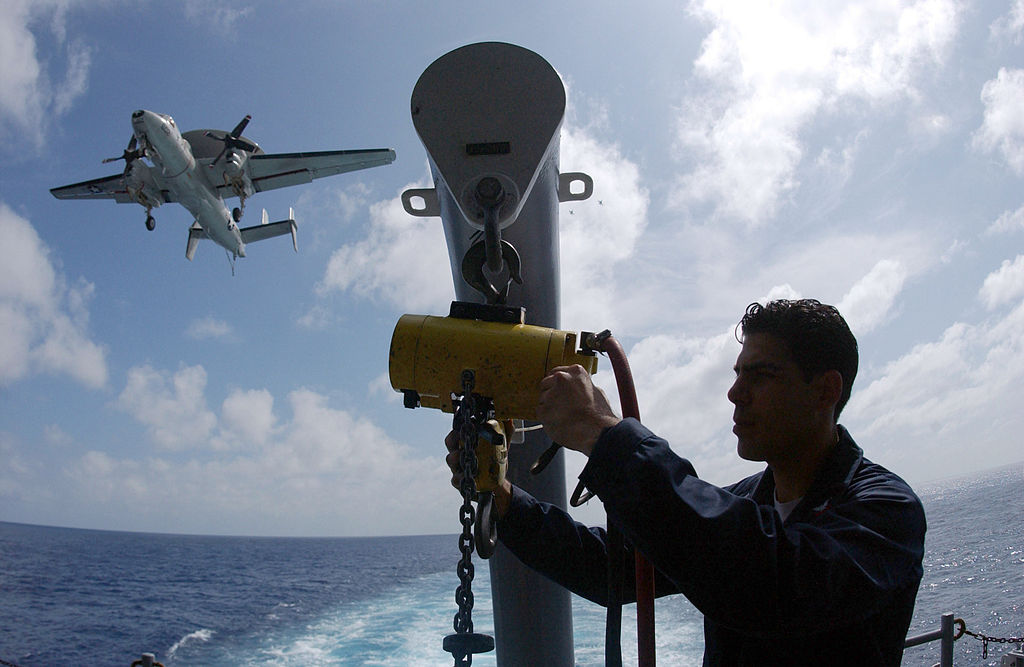E2: (49, 108, 395, 277)
